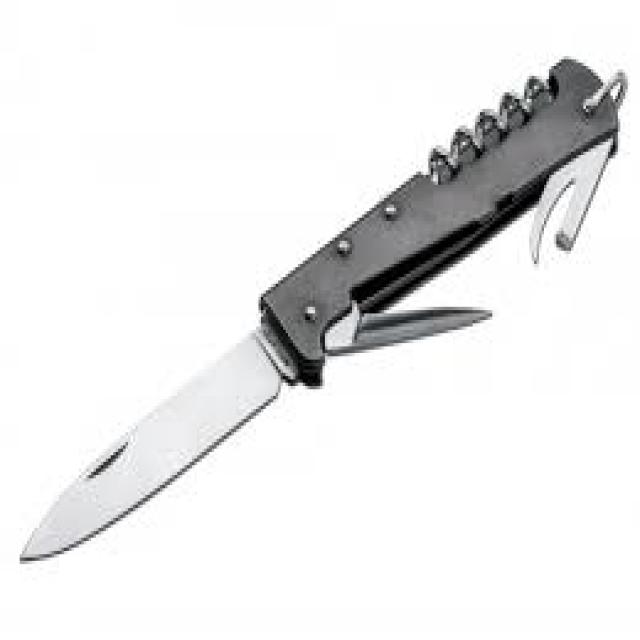knives: (15, 46, 630, 571)
